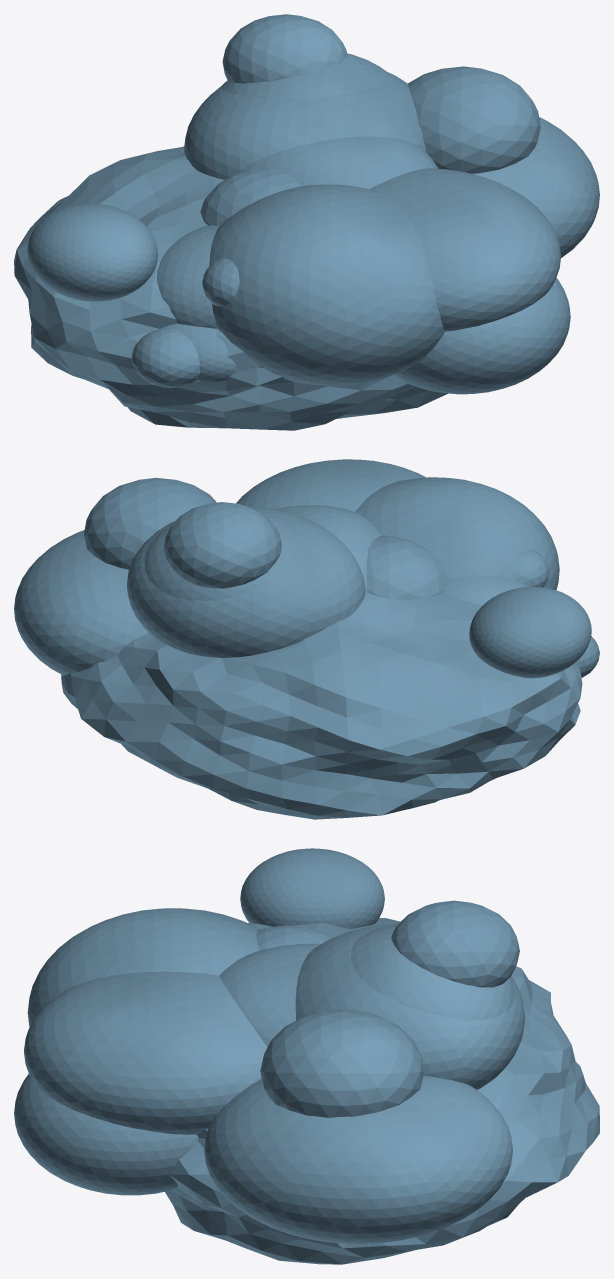
The model's file is azurite.glb.
The picture shows the model from 3 angles, top to bottom: view 1: azimuth 30°, elevation 25°; view 2: azimuth 150°, elevation 25°; view 3: azimuth 270°, elevation 25°; orthographic projection. The views are drawn at different scales.
Parts seen in each view (by area): view 1: geometry_0; view 2: geometry_0; view 3: geometry_0.
Boxes of the visible parts, x1,y1,x2,y2 form: geometry_0: (14,14,599,430); geometry_0: (14,459,599,819); geometry_0: (14,848,599,1264).
Size of the model in its own units: 0.1 by 0.0528 by 0.0862.
